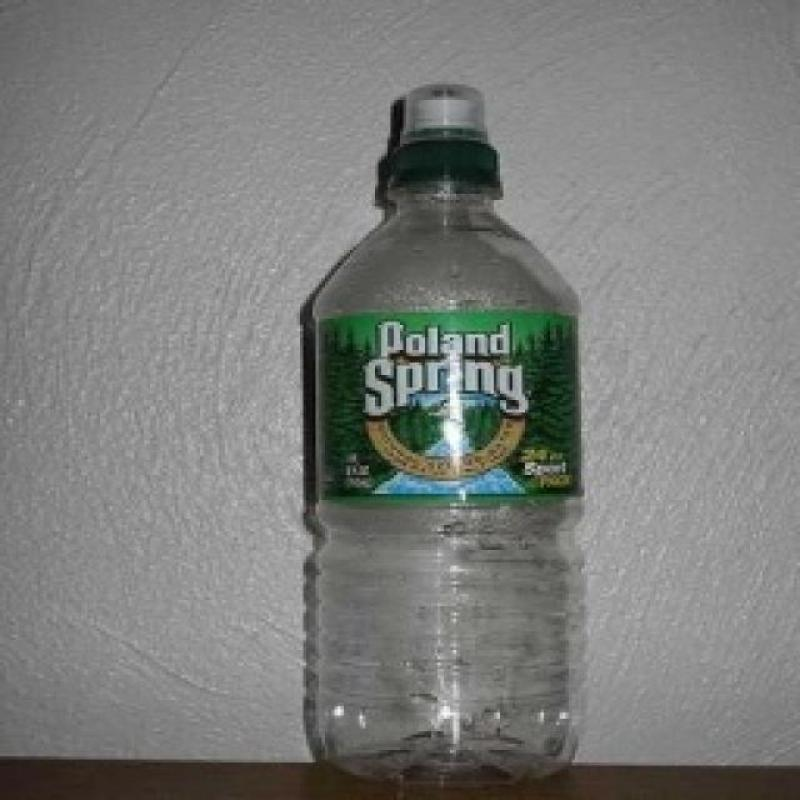botella: (311, 84, 583, 781)
